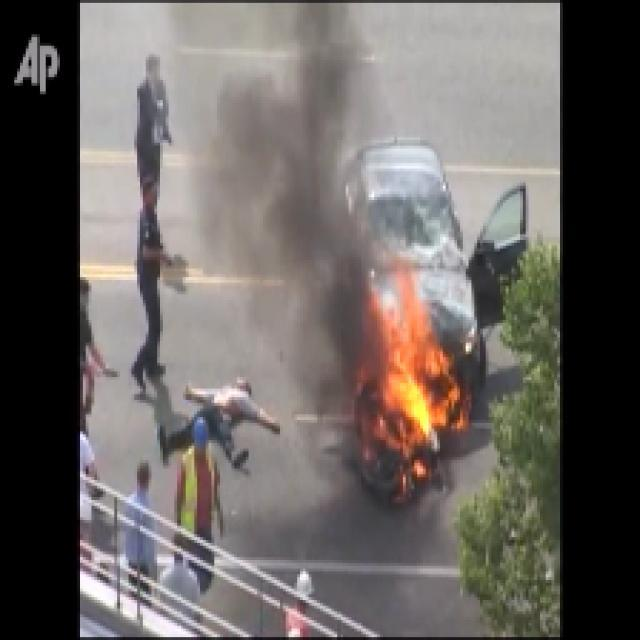Fire: (388, 314, 448, 437)
Smoke: (248, 119, 366, 374)
